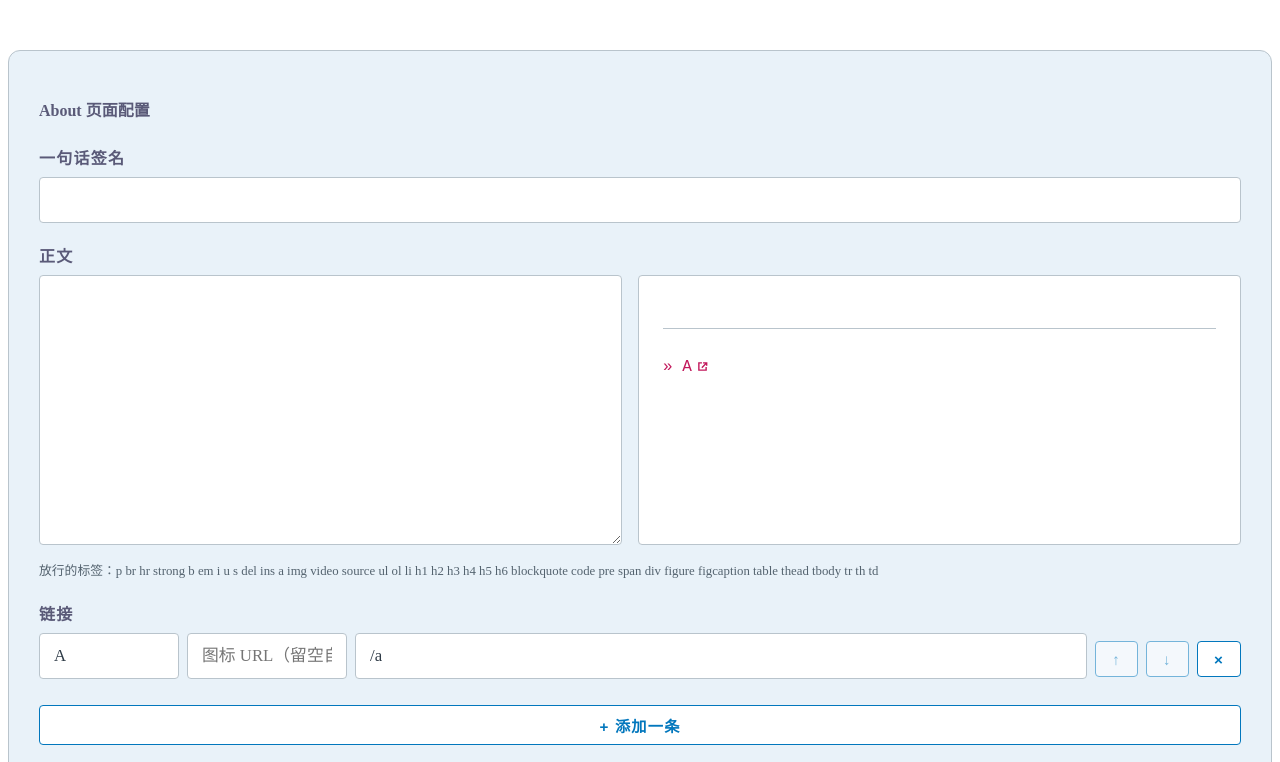
AboutConfigForm › 预览不渲染保存时会被丢掉的空链接行
Click the button with class "about-link-add": (640, 726) [39, 706, 1241, 746]
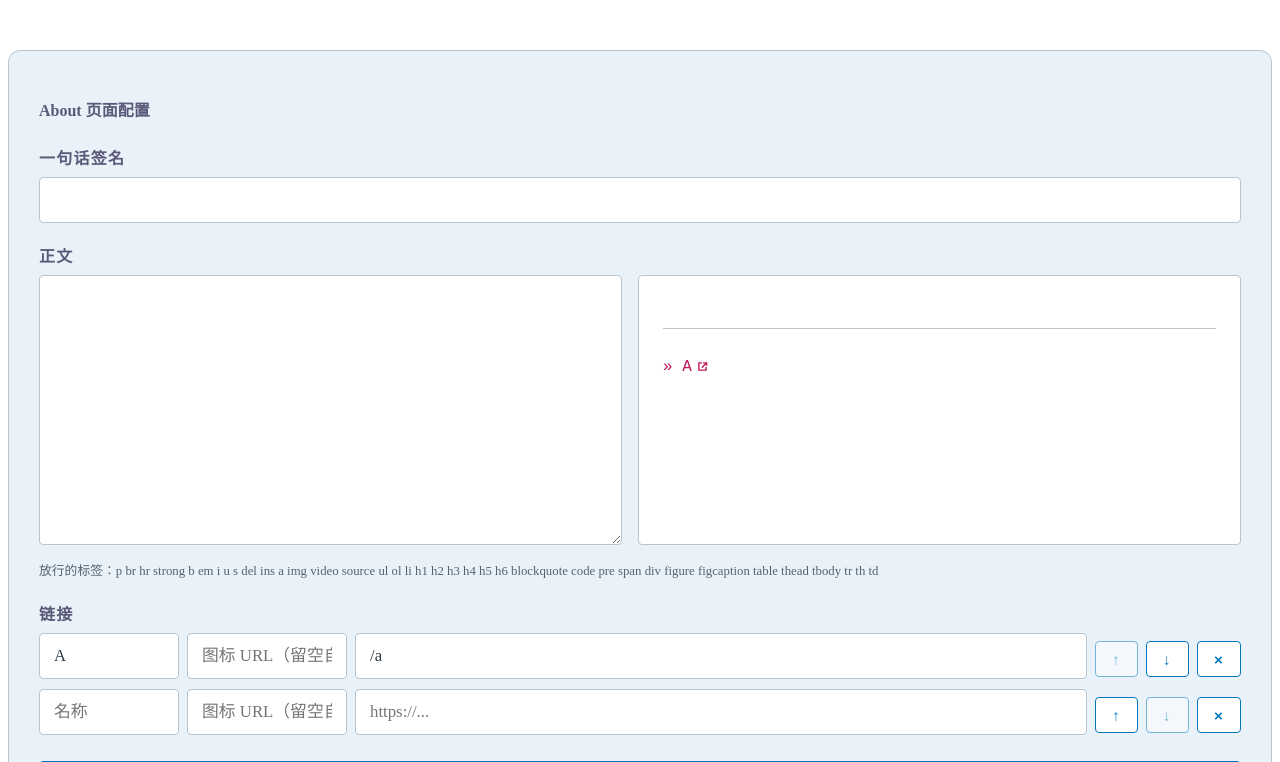
Expected: the number of links with class "about-link" is 1, [663, 358, 709, 376]
Expected: the number of list items with class "link-item" is 2, [39, 634, 1241, 680]; [39, 690, 1241, 736]
